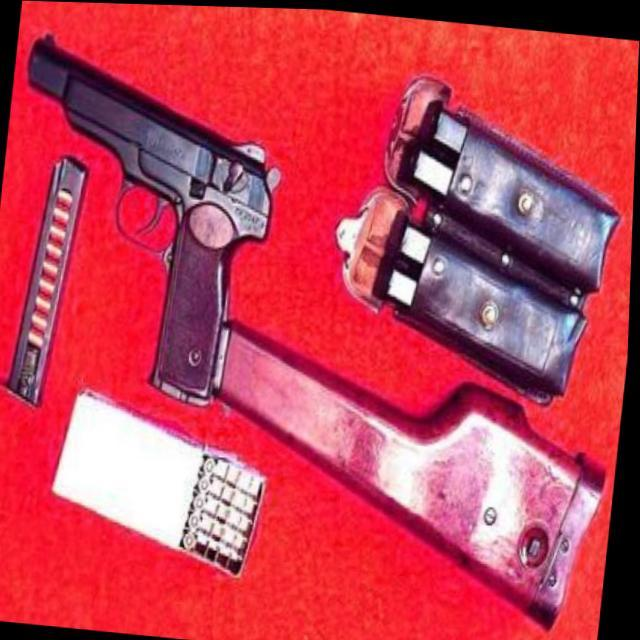weapon: (0, 27, 639, 630)
